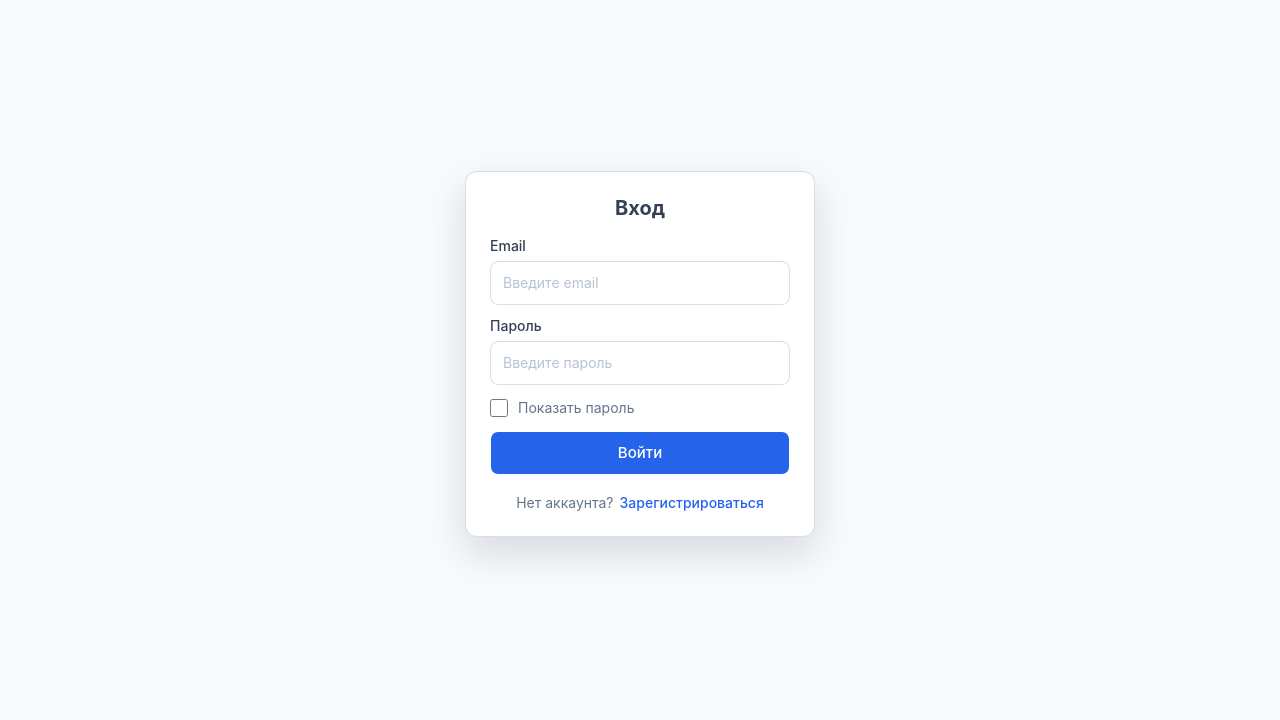
Test: auth pages › shows the generic login error for invalid credentials
Expected: the heading "Вход" is shown, [615, 196, 665, 220]
In the field labelled "Email": x=640, y=283 [490, 261, 790, 305], type "learner@example.com"
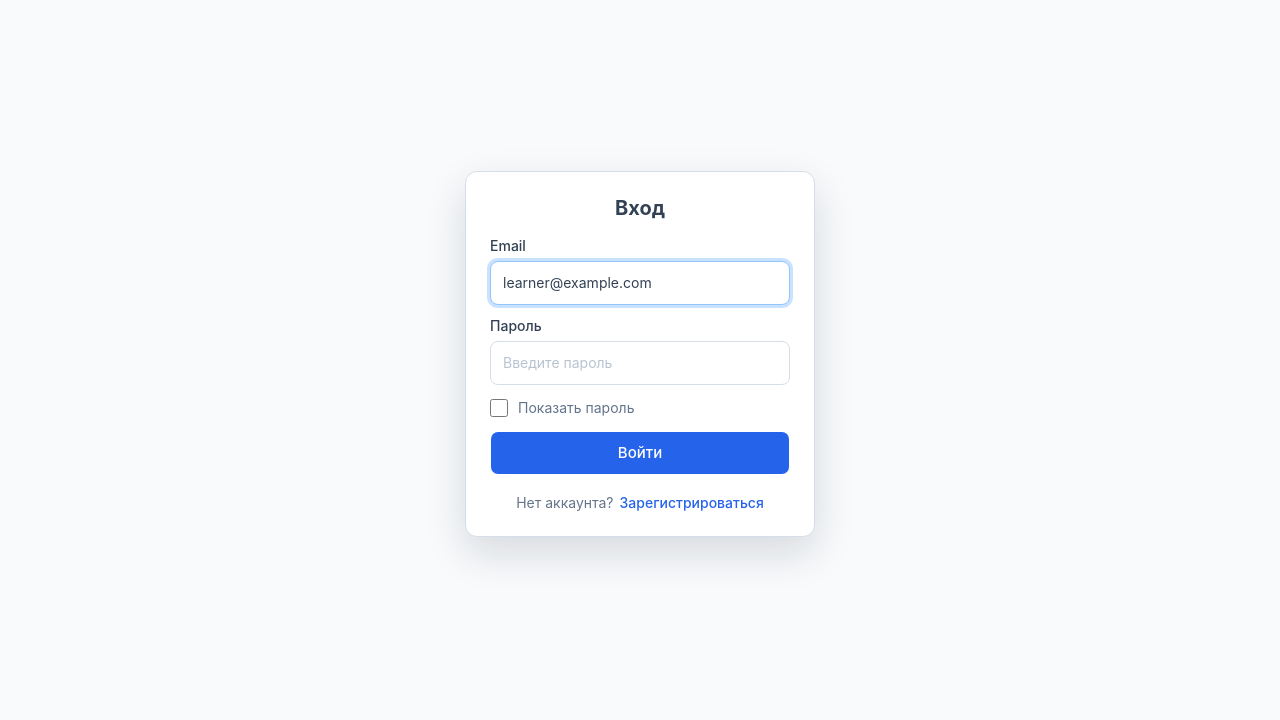
In the password field labelled "Пароль": x=640, y=363 [490, 341, 790, 385], type "wrong-password"
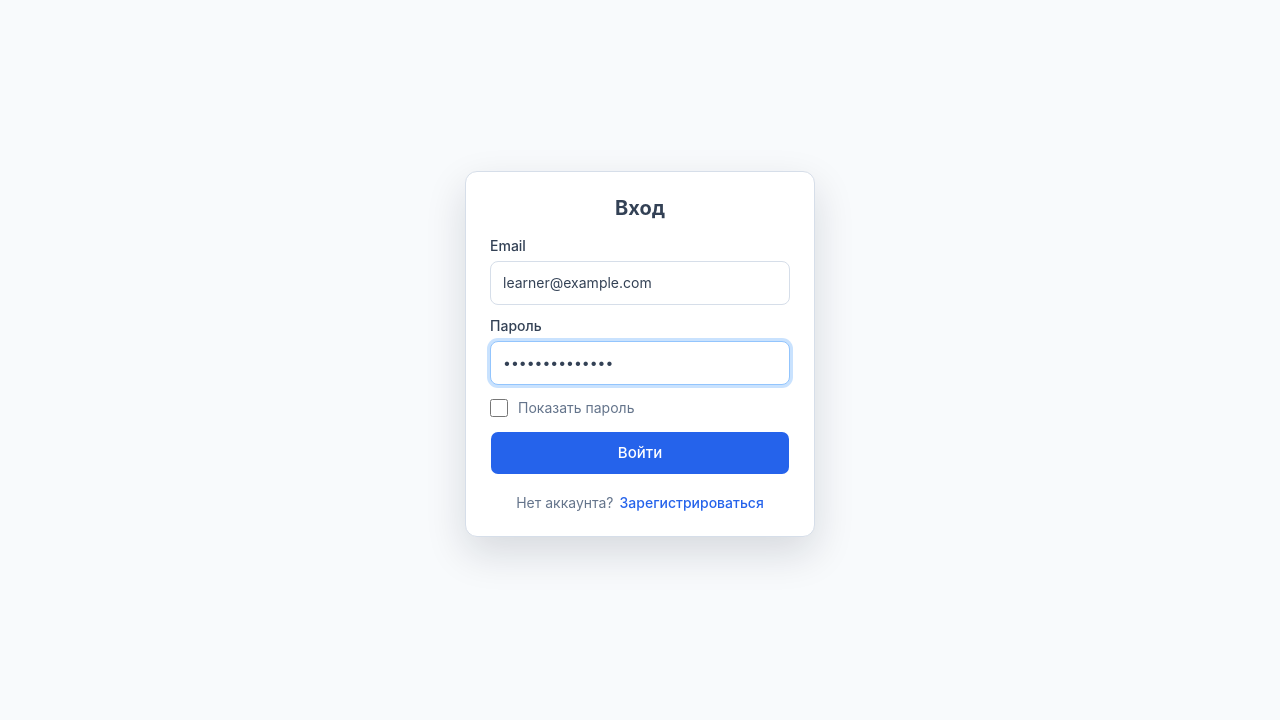
Click the button "Войти": x=640, y=453 [490, 431, 790, 475]
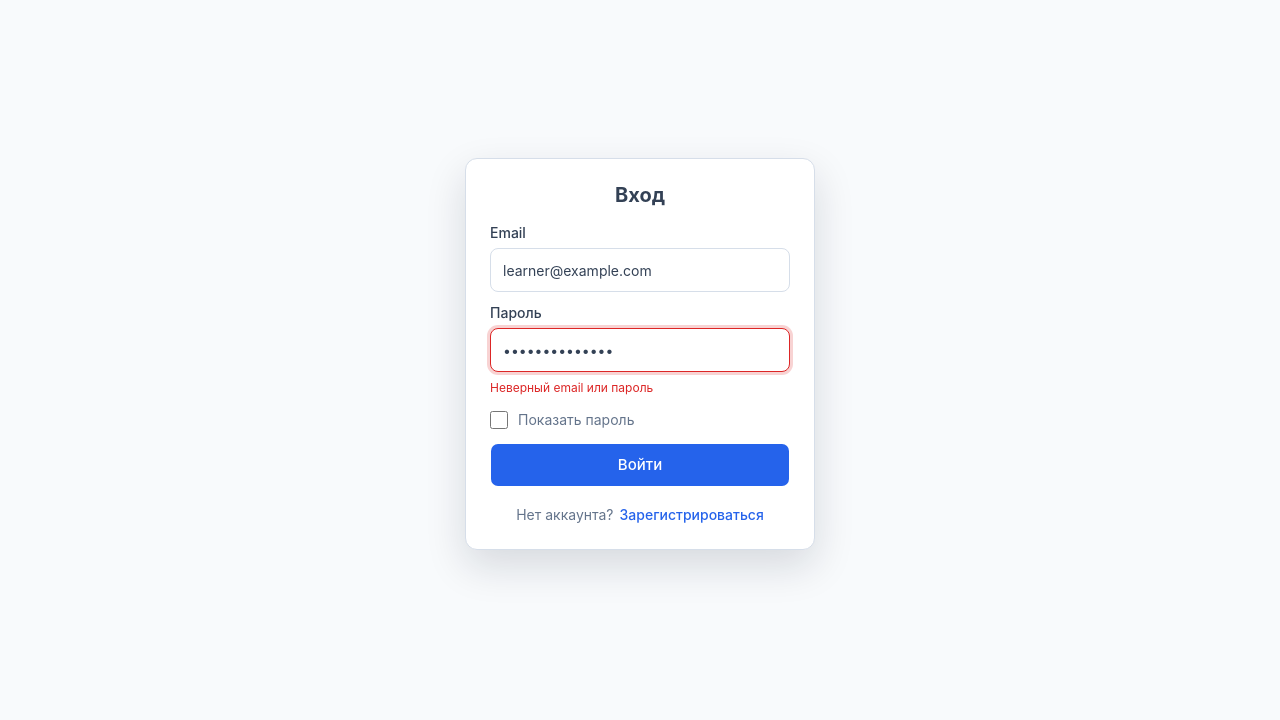
Now the message reads "Неверный email или пароль", box [490, 380, 653, 395]
